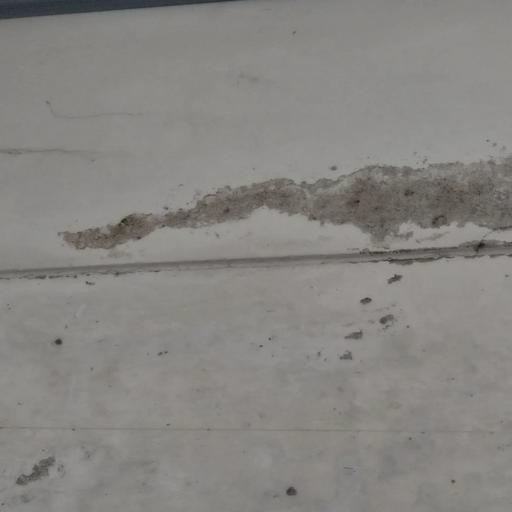peeling: (66, 148, 512, 282)
